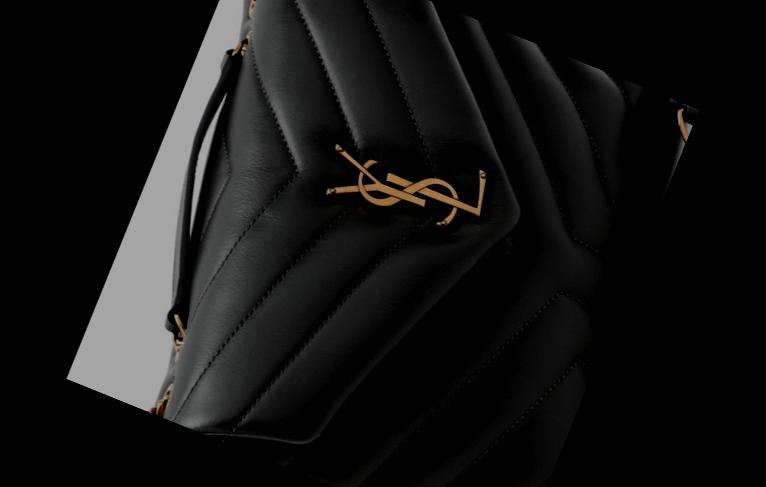YVES-SAINT-LAURENT: (316, 113, 497, 253)
